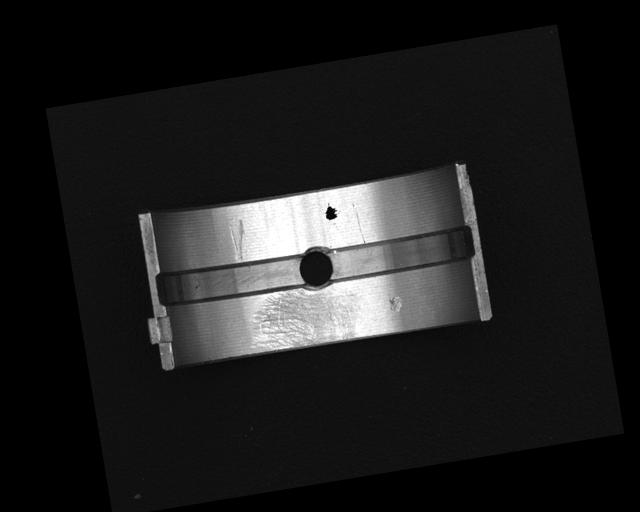blot: (322, 200, 339, 221)
bruise: (388, 296, 403, 314)
gap: (153, 251, 304, 310), (325, 224, 475, 283)
hole: (295, 242, 337, 291)
nick: (225, 217, 250, 261), (351, 203, 365, 244)
scratch: (243, 281, 367, 355)
